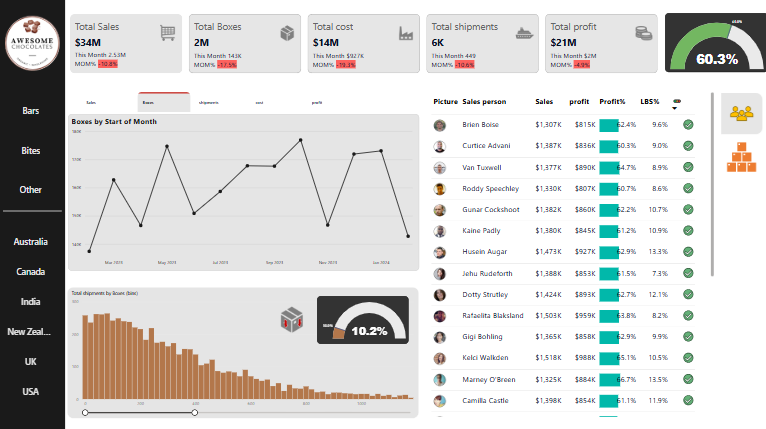

Layout of this report page (visuals, bound fields, positions):
{"tool":"powerbi","page":{"name":"Page 2","canvas":[1920,1080],"ordinal":1},"visuals":[{"type":"cardVisual","fields":{"Data":["_Measures.Total Sales","_Measures.Total Boxes","_Measures.Total cost","_Measures.Total shipments","_Measures.Total profit"]},"box":[168.8,29.2,1479.2,158.3],"z":0},{"type":"gauge","fields":{"Y":["_Measures.Profit%"]},"box":[1662.5,33.3,258.3,147.9],"z":1000},{"type":"lineChart","fields":{"Y":["_Measures.Total Boxes"],"Category":["calendar.Start of Month"]},"box":[170,285,878.3,391.7],"z":2000},{"type":"advancedSlicerVisual","fields":{"Values":["Measure Selector.Measure Selector"]},"box":[198.3,225,710,60],"z":3000},{"type":"columnChart","fields":{"Category":["shipments.Boxes (bins)"],"Y":["_Measures.Total shipments"]},"box":[168.3,717.1,880.5,329.3],"z":4000},{"type":"gauge","fields":{"Y":["_Measures.LBS%"]},"box":[792.7,739,229.3,119.5],"z":5000},{"type":"shape","box":[0,0,162.8,1079.1],"z":6000},{"type":"image","box":[668.3,756.1,124.4,87.8],"z":7000},{"type":"tableEx","title":"Product Table","fields":{"Values":["products.Product","_Measures.Total Sales","_Measures.Total profit","_Measures.Profit%","_Measures.LBS%","_Measures.Profit Target Indicator"]},"box":[1069.8,225.6,720.9,823.3],"z":9000},{"type":"image","title":"Product","box":[1791.1,226.7,128.9,113.3],"z":10000},{"type":"image","title":"People","box":[1791.1,340,128.9,104.4],"z":11000},{"type":"image","box":[7,18.6,146.5,181.4],"z":12000},{"type":"advancedSlicerVisual","fields":{"Values":["products.Category"]},"box":[0,225.6,153.5,300],"z":13000},{"type":"advancedSlicerVisual","fields":{"Values":["shipments.Geography"]},"box":[0,565.1,153.5,455.8],"z":14000},{"type":"shape","box":[7,376.7,146.5,300],"z":15000}]}

Visuals, with their boxes on the page's 1920x1080 design canvas (x1, y1, x2, y2). These are canvas units, not pixel positions in the 766x429 screenshot, which may show the page scaled, cropped or inside an application window:
cardVisual - _Measures.Total Sales x _Measures.Total Boxes: {"left": 169, "top": 29, "right": 1648, "bottom": 188}
gauge - _Measures.Profit%: {"left": 1662, "top": 33, "right": 1921, "bottom": 181}
lineChart - _Measures.Total Boxes x calendar.Start of Month: {"left": 170, "top": 285, "right": 1048, "bottom": 677}
advancedSlicerVisual - Measure Selector.Measure Selector: {"left": 198, "top": 225, "right": 908, "bottom": 285}
columnChart - shipments.Boxes (bins) x _Measures.Total shipments: {"left": 168, "top": 717, "right": 1049, "bottom": 1046}
gauge - _Measures.LBS%: {"left": 793, "top": 739, "right": 1022, "bottom": 858}
shape: {"left": 0, "top": 0, "right": 163, "bottom": 1079}
image: {"left": 668, "top": 756, "right": 793, "bottom": 844}
"Product Table" tableEx: {"left": 1070, "top": 226, "right": 1791, "bottom": 1049}
"Product" image: {"left": 1791, "top": 227, "right": 1920, "bottom": 340}
"People" image: {"left": 1791, "top": 340, "right": 1920, "bottom": 444}
image: {"left": 7, "top": 19, "right": 154, "bottom": 200}
advancedSlicerVisual - products.Category: {"left": 0, "top": 226, "right": 154, "bottom": 526}
advancedSlicerVisual - shipments.Geography: {"left": 0, "top": 565, "right": 154, "bottom": 1021}
shape: {"left": 7, "top": 377, "right": 154, "bottom": 677}
